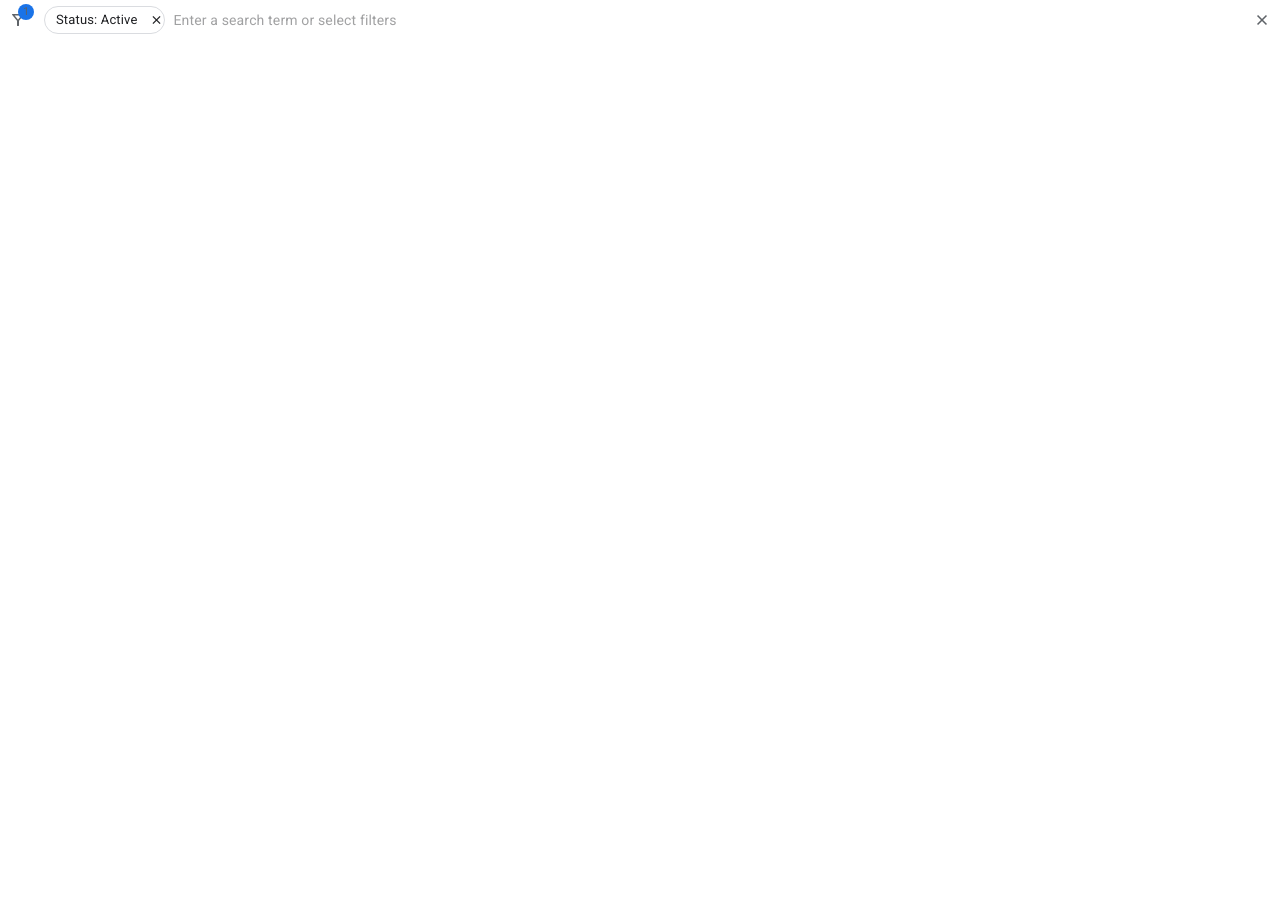
Test: DvFilterBar › funnel popover lists the active filters
The image size is (1280, 900).
Click the button named "Filters, 1 active" at x=18, y=20, box [0,2,36,38]
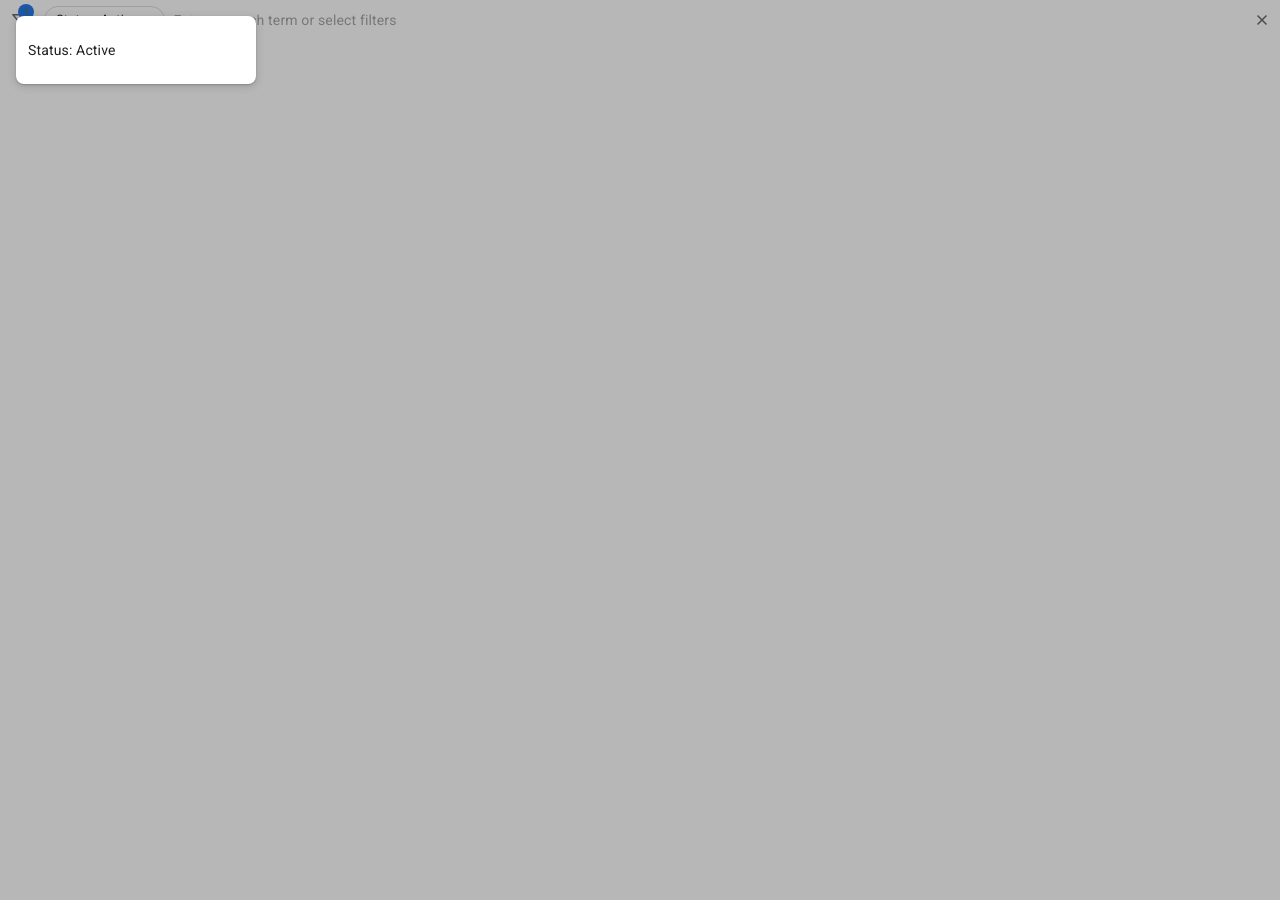
Check: the list item "Status: Active" is shown, box [28,42,116,58]
